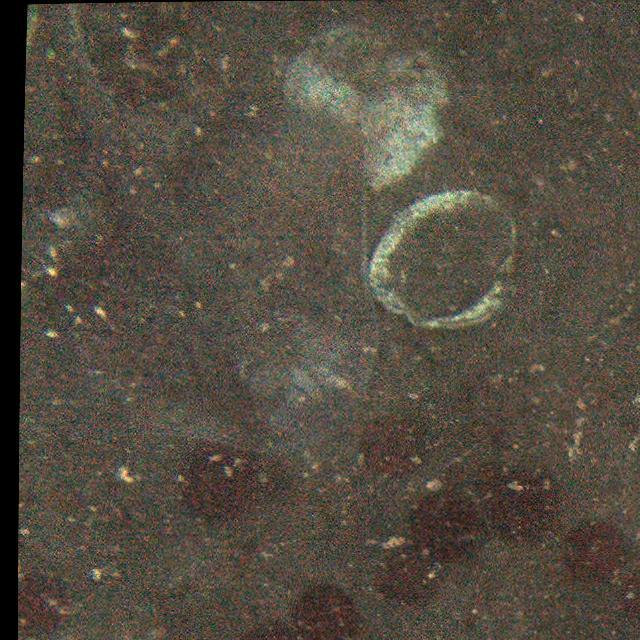skate: (29, 0, 381, 458)
